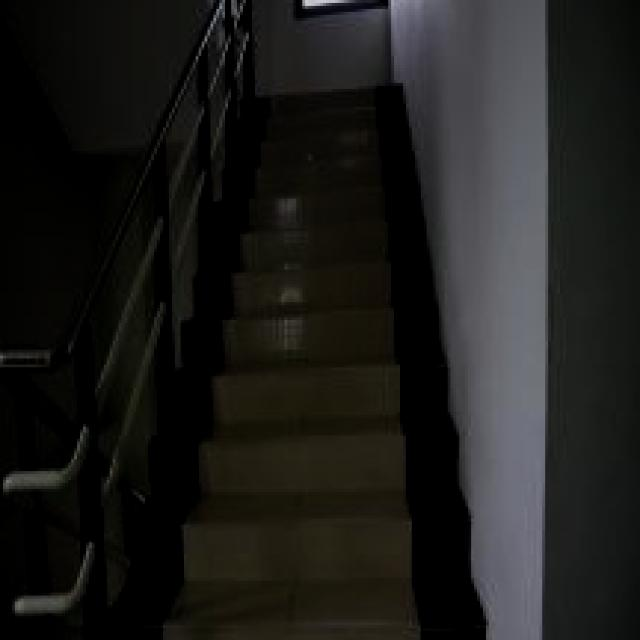upstair: (155, 122, 428, 640)
